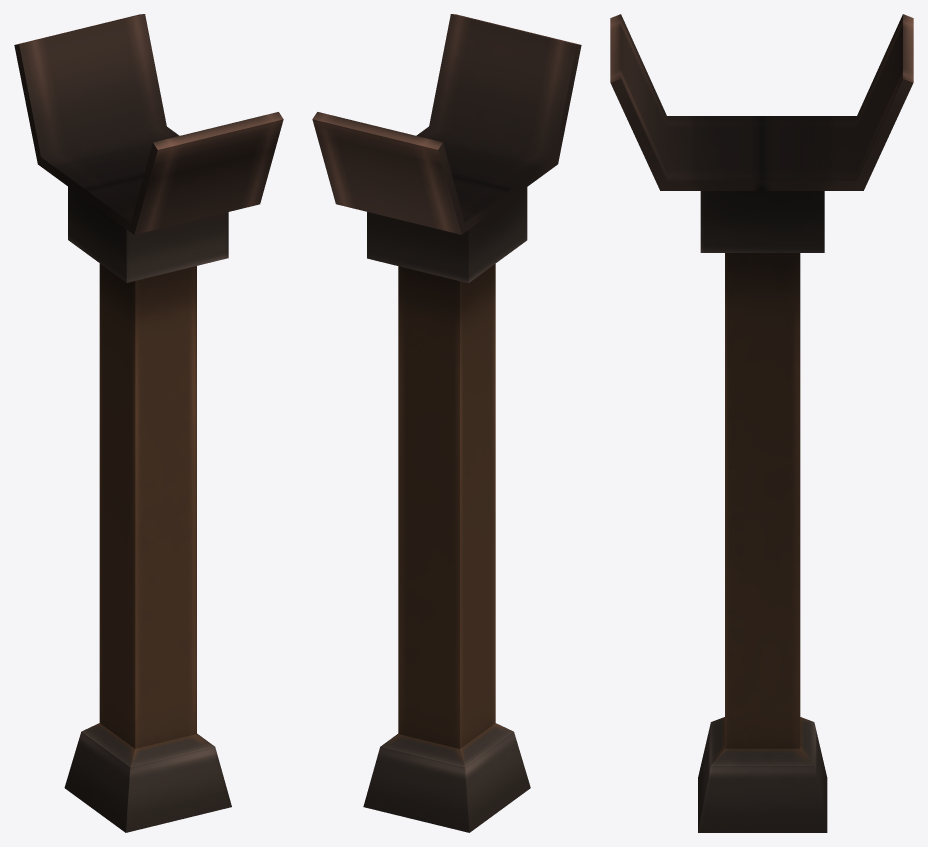
File: Wheel_Water_Pole_05.FBX
3 views of the same model, side by side, from view 1: azimuth 30°, elevation 25°; view 2: azimuth 150°, elevation 25°; view 3: azimuth 270°, elevation 25° (orthographic). The views are drawn at different scales.
Parts seen in each view (by area): view 1: Wheel_Water_Pole_05; view 2: Wheel_Water_Pole_05; view 3: Wheel_Water_Pole_05.
Boxes of the visible parts, x1,y1,x2,y2 form: Wheel_Water_Pole_05: (14,14,283,832); Wheel_Water_Pole_05: (312,14,581,832); Wheel_Water_Pole_05: (610,14,913,832).
Bounding box in the file's own units: 38.67 × 211 × 76.38.
